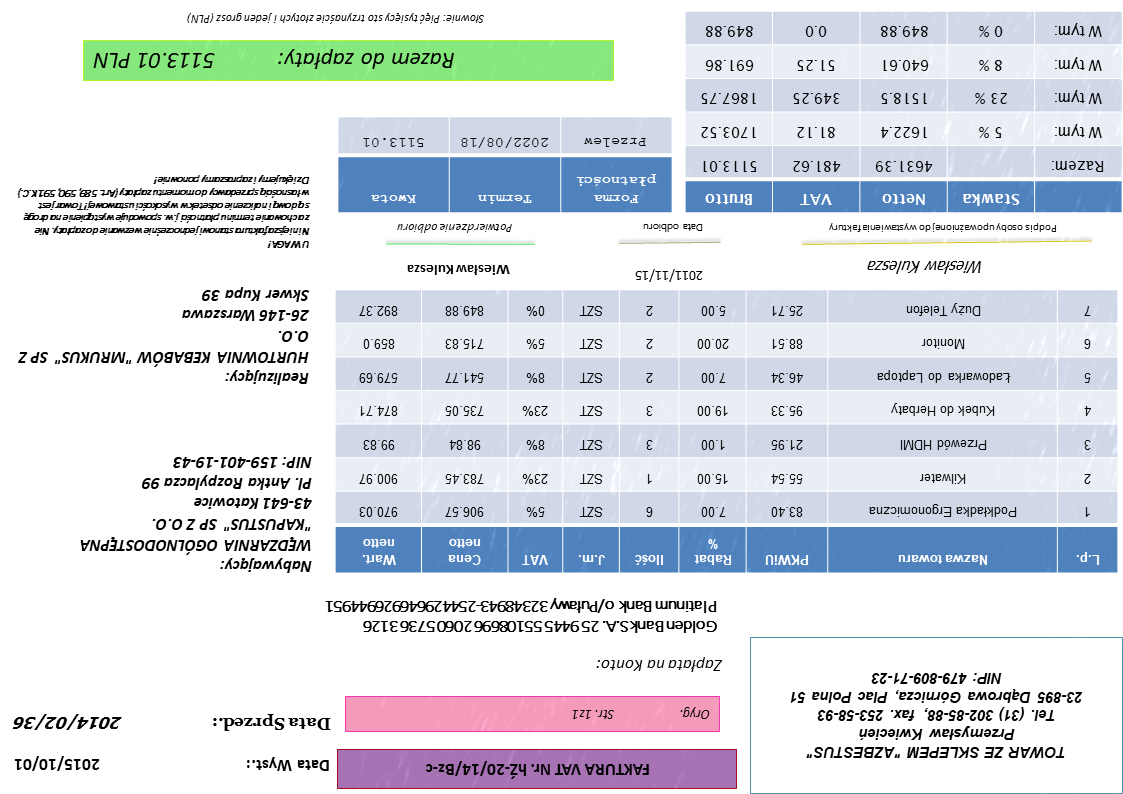Table: (336, 291, 1119, 576), (685, 11, 1122, 214), (337, 116, 674, 214)
TextBox: (16, 286, 311, 389), (75, 452, 314, 575), (786, 668, 1086, 761), (14, 173, 313, 252), (322, 597, 719, 636), (91, 49, 458, 74), (423, 758, 651, 782), (185, 10, 486, 27), (827, 221, 1059, 237), (594, 654, 726, 676), (209, 711, 332, 733), (864, 256, 985, 278), (11, 710, 123, 733), (570, 707, 713, 723), (404, 261, 513, 280), (395, 220, 515, 236), (13, 755, 102, 774), (244, 755, 331, 774), (633, 266, 706, 285), (643, 221, 706, 235)
